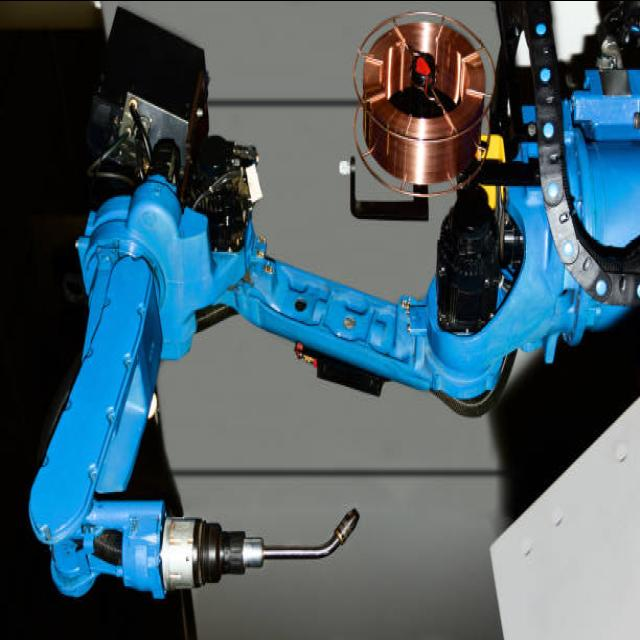Robotic-arm: (21, 87, 640, 615)
